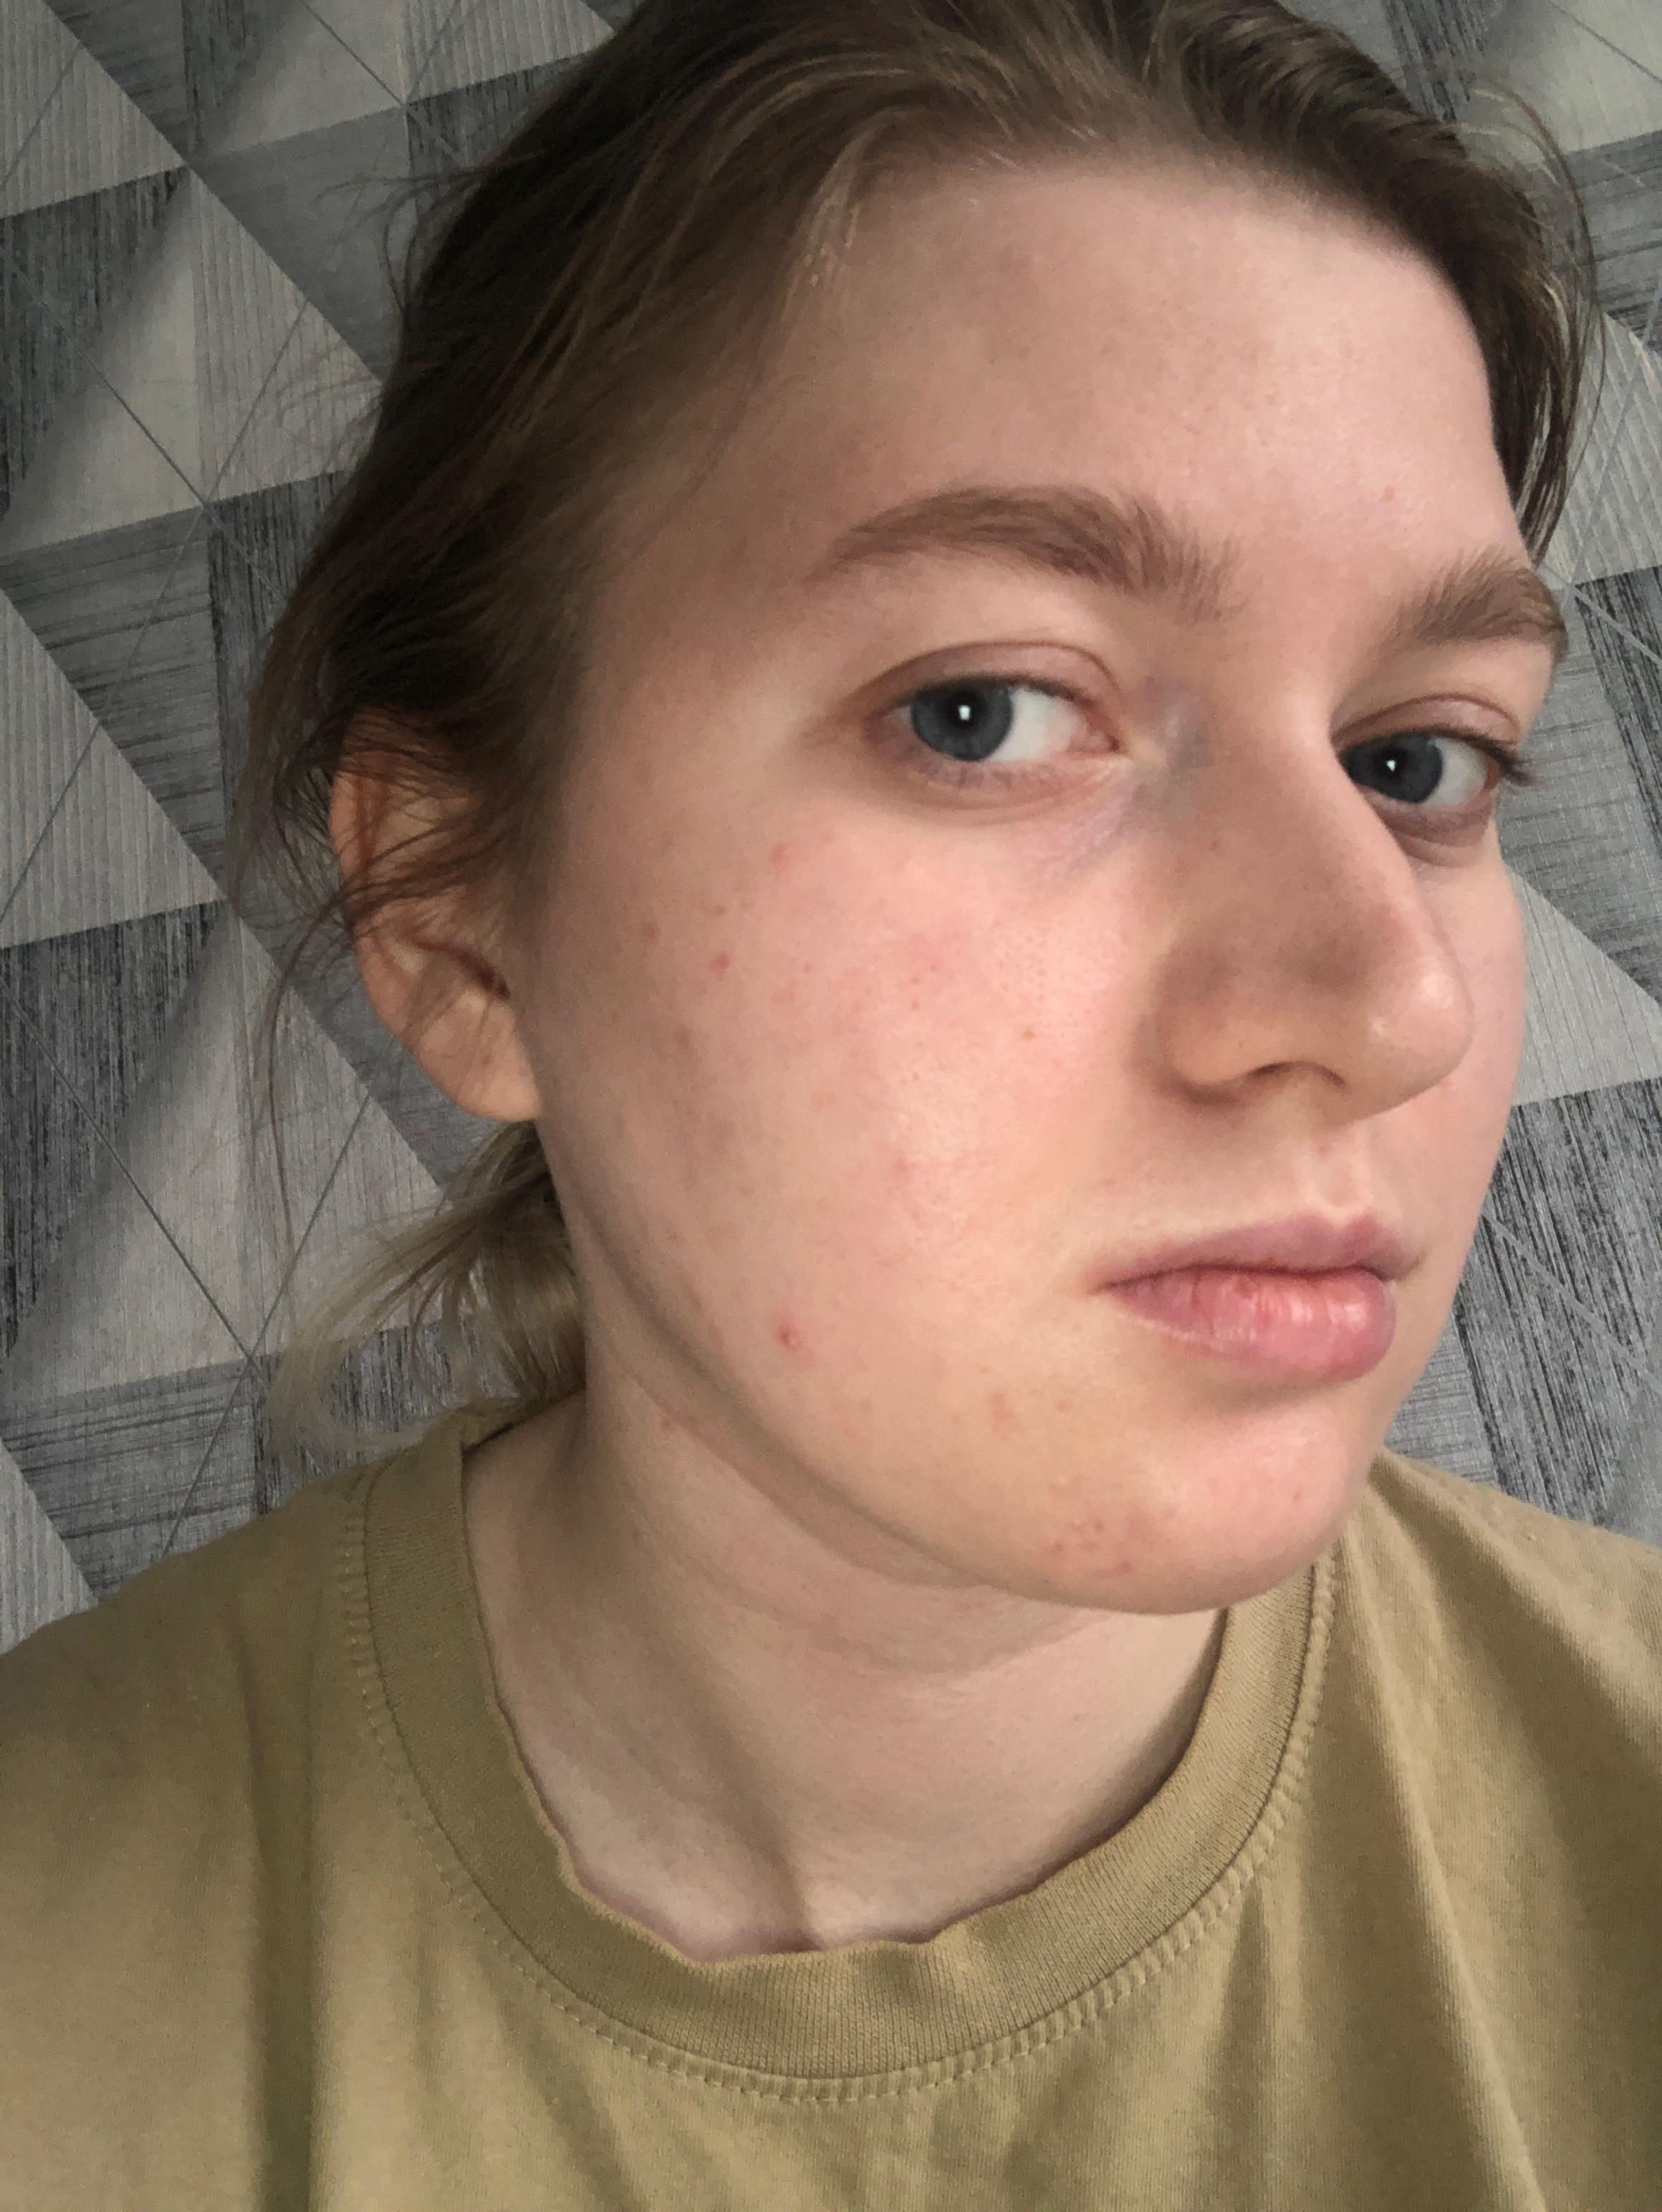Acne: (894, 910, 978, 1013), (1032, 1507, 1147, 1580), (677, 1109, 742, 1227), (878, 1144, 946, 1236), (875, 1240, 983, 1297), (1149, 1468, 1243, 1528), (686, 1288, 733, 1350), (622, 744, 672, 794), (988, 1376, 1028, 1433), (602, 1103, 648, 1151), (618, 913, 667, 951), (660, 1021, 707, 1060), (697, 945, 742, 983), (775, 1313, 807, 1367), (1369, 477, 1409, 519), (763, 828, 798, 868), (1002, 1016, 1046, 1046), (801, 1084, 840, 1114), (1285, 1480, 1311, 1508)
Blackheads: (1329, 857, 1419, 1027)
Englarged-Pores: (934, 903, 1072, 1006)
Eyebags: (920, 754, 1157, 887)
